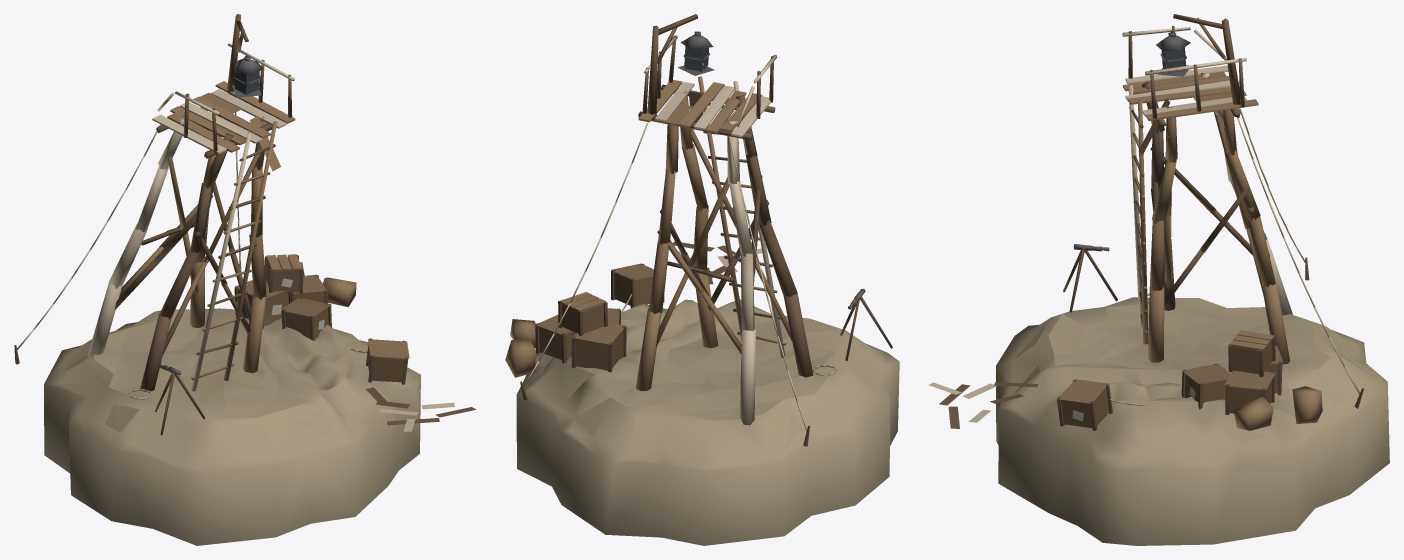
The model's file is wrecker_tower_far.glb.
3 views of the same model, side by side, from view 1: azimuth 30°, elevation 25°; view 2: azimuth 150°, elevation 25°; view 3: azimuth 270°, elevation 25° (orthographic). The views are drawn at different scales.
Parts seen in each view (by area): view 1: wrecker_tower; view 2: wrecker_tower; view 3: wrecker_tower.
Boxes of the visible parts, bbox=[...] form: wrecker_tower: bbox=[14, 14, 475, 545]; wrecker_tower: bbox=[505, 14, 899, 545]; wrecker_tower: bbox=[928, 14, 1389, 545].
Bounding box in the file's own units: 7.43 × 9.51 × 8.69.
